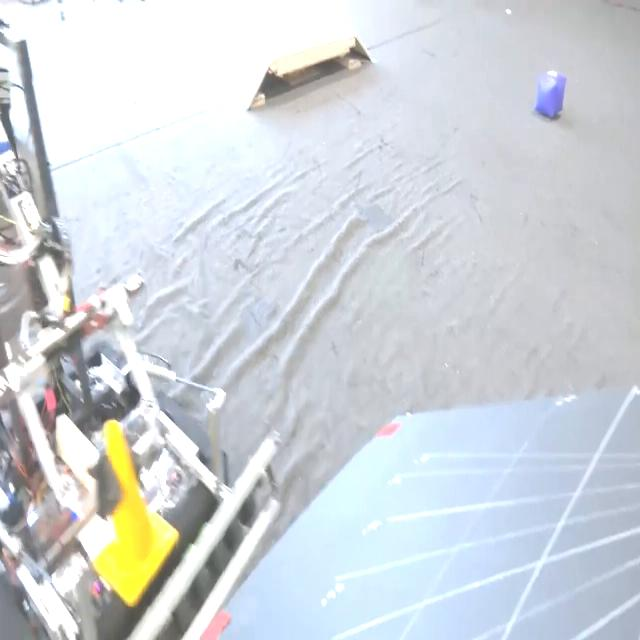frc_cone: (99, 419, 174, 611)
frc_cube: (533, 68, 568, 123)
